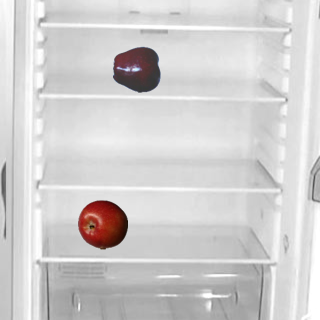Apple Braeburn: (77, 199, 127, 249)
Apple Red Delicious: (112, 44, 162, 94)
